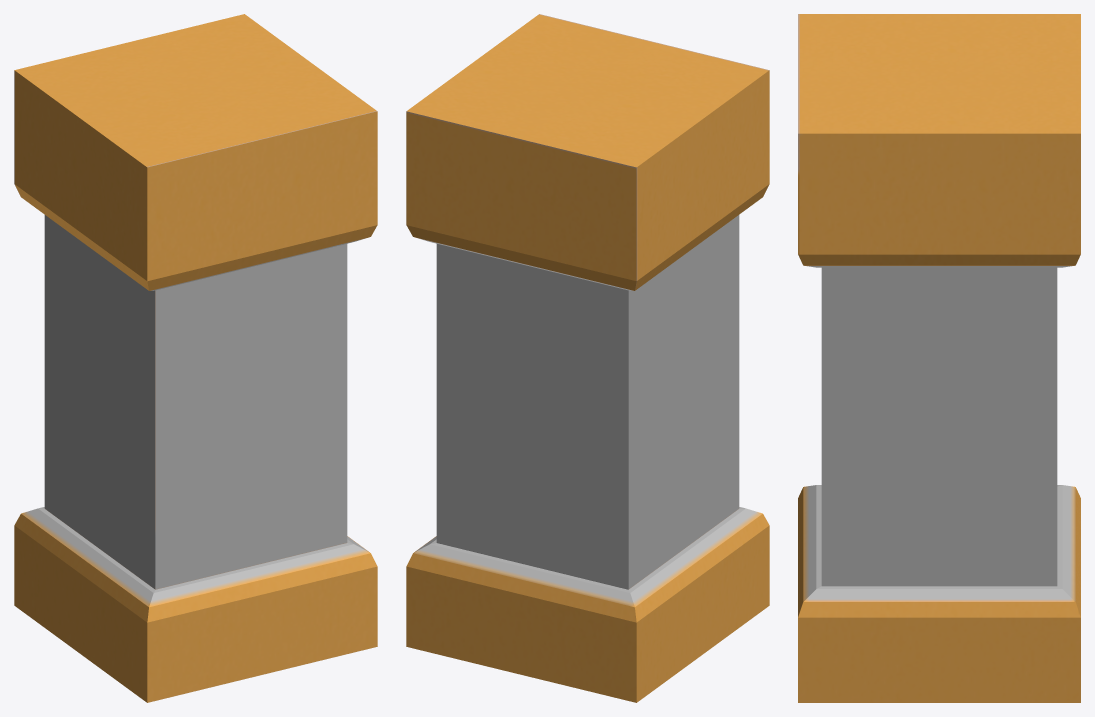
Rendered from ColunaParapeitoSuperiorQuadrado.fbx.
3 renders of one model, left to right at view 1: azimuth 30°, elevation 25°; view 2: azimuth 150°, elevation 25°; view 3: azimuth 270°, elevation 25°, orthographic. The views are drawn at different scales.
Visible parts, largest first — view 1: ColunaParapeitoSuperiorQuadrado; view 2: ColunaParapeitoSuperiorQuadrado; view 3: ColunaParapeitoSuperiorQuadrado.
Boxes of the visible parts, <box> form: ColunaParapeitoSuperiorQuadrado: <box>14,14,377,702</box>; ColunaParapeitoSuperiorQuadrado: <box>406,14,769,702</box>; ColunaParapeitoSuperiorQuadrado: <box>798,14,1080,702</box>.
Size of the model in its own units: 36 by 80 by 36.
